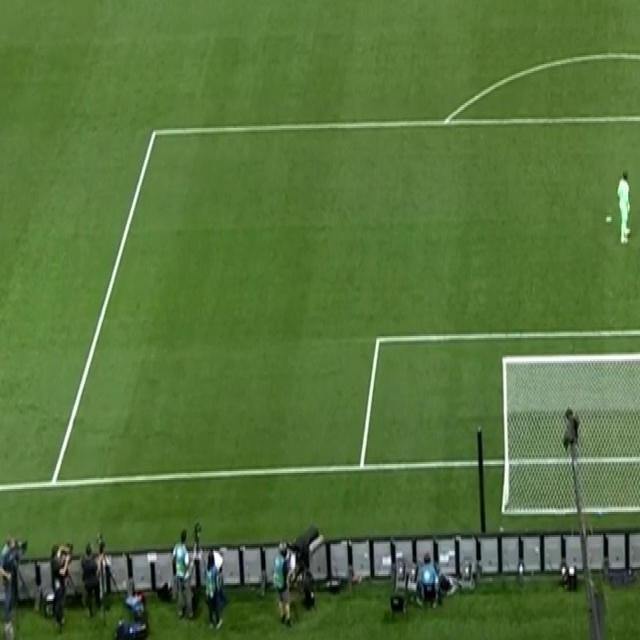player-white: (616, 170, 633, 247)
